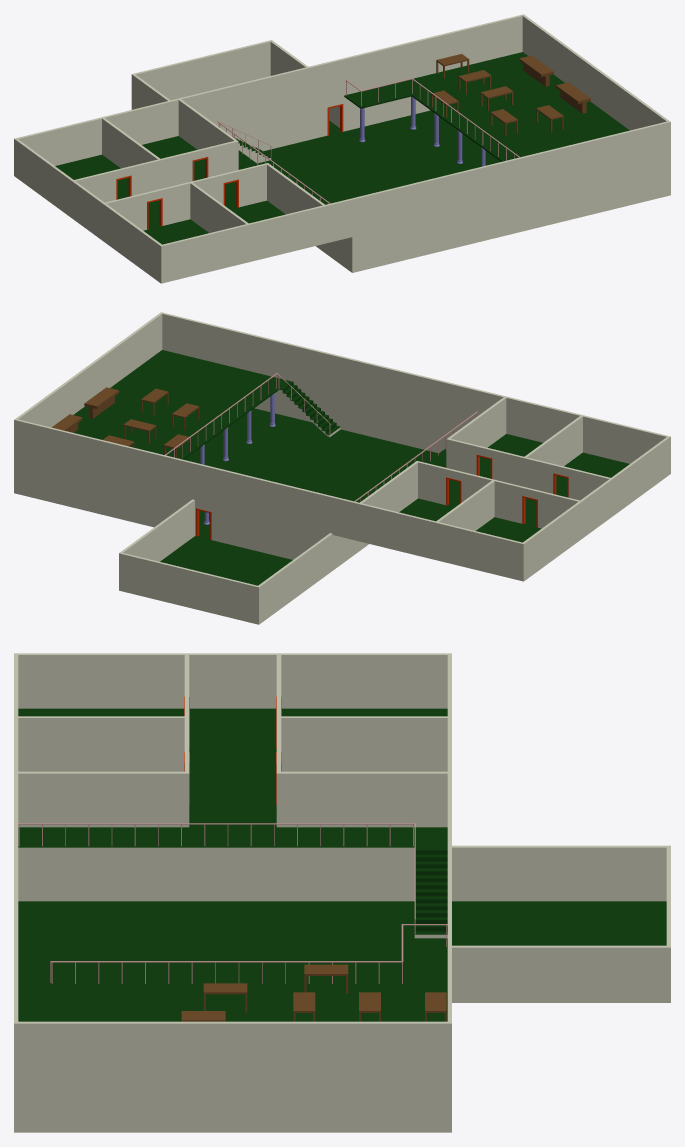
The model's file is recast_level.gltf.
The picture shows the model from 3 angles, top to bottom: view 1: azimuth 30°, elevation 25°; view 2: azimuth 150°, elevation 25°; view 3: azimuth 270°, elevation 25°; orthographic projection. The views are drawn at different scales.
Visible parts, largest first — view 1: Level; view 2: Level; view 3: Level.
Boxes of the visible parts, x1,y1,x2,y2 form: Level: (14,14,670,283); Level: (14,312,670,624); Level: (14,653,670,1132).
Bounding box in the file's own units: 40 × 5.5 × 30.
Materials: 7 (7 with a texture image).
